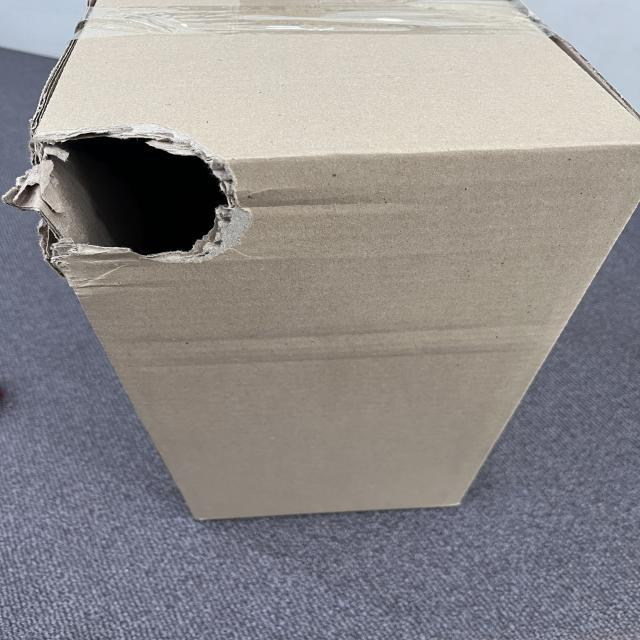hole: (22, 130, 224, 262)
